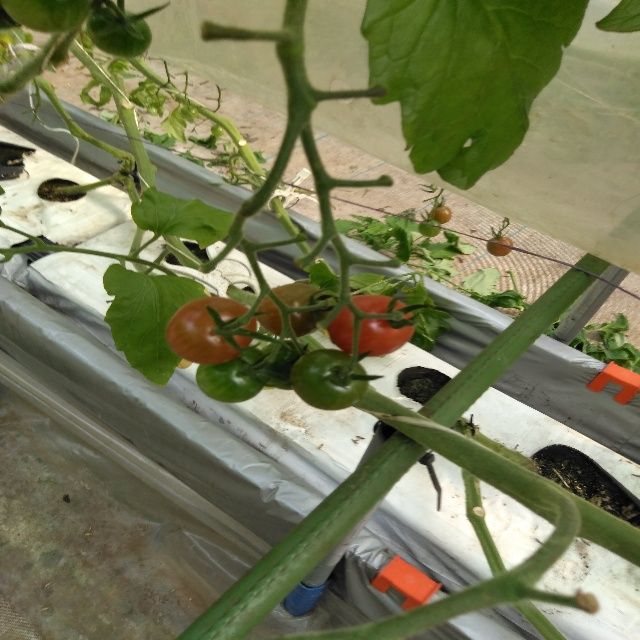l_fully_ripened: (326, 295, 414, 358)
l_green: (291, 349, 369, 411), (195, 346, 272, 404), (85, 7, 153, 58), (0, 0, 94, 35), (262, 340, 310, 390), (420, 219, 440, 238)
l_half_ripened: (166, 297, 257, 364), (255, 283, 332, 338), (485, 237, 513, 257), (430, 206, 451, 224)
